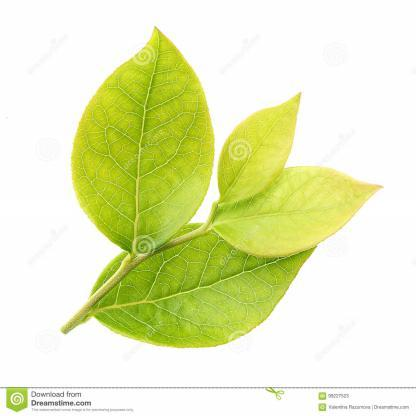Blueberry leaf: (70, 18, 202, 251), (211, 163, 392, 259), (200, 56, 305, 218)
